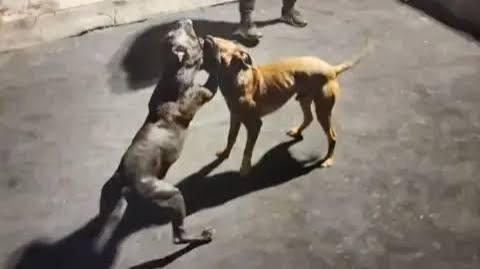adult_dog: (96, 17, 219, 247), (204, 31, 380, 173)
non-dog: (231, 0, 308, 41)
